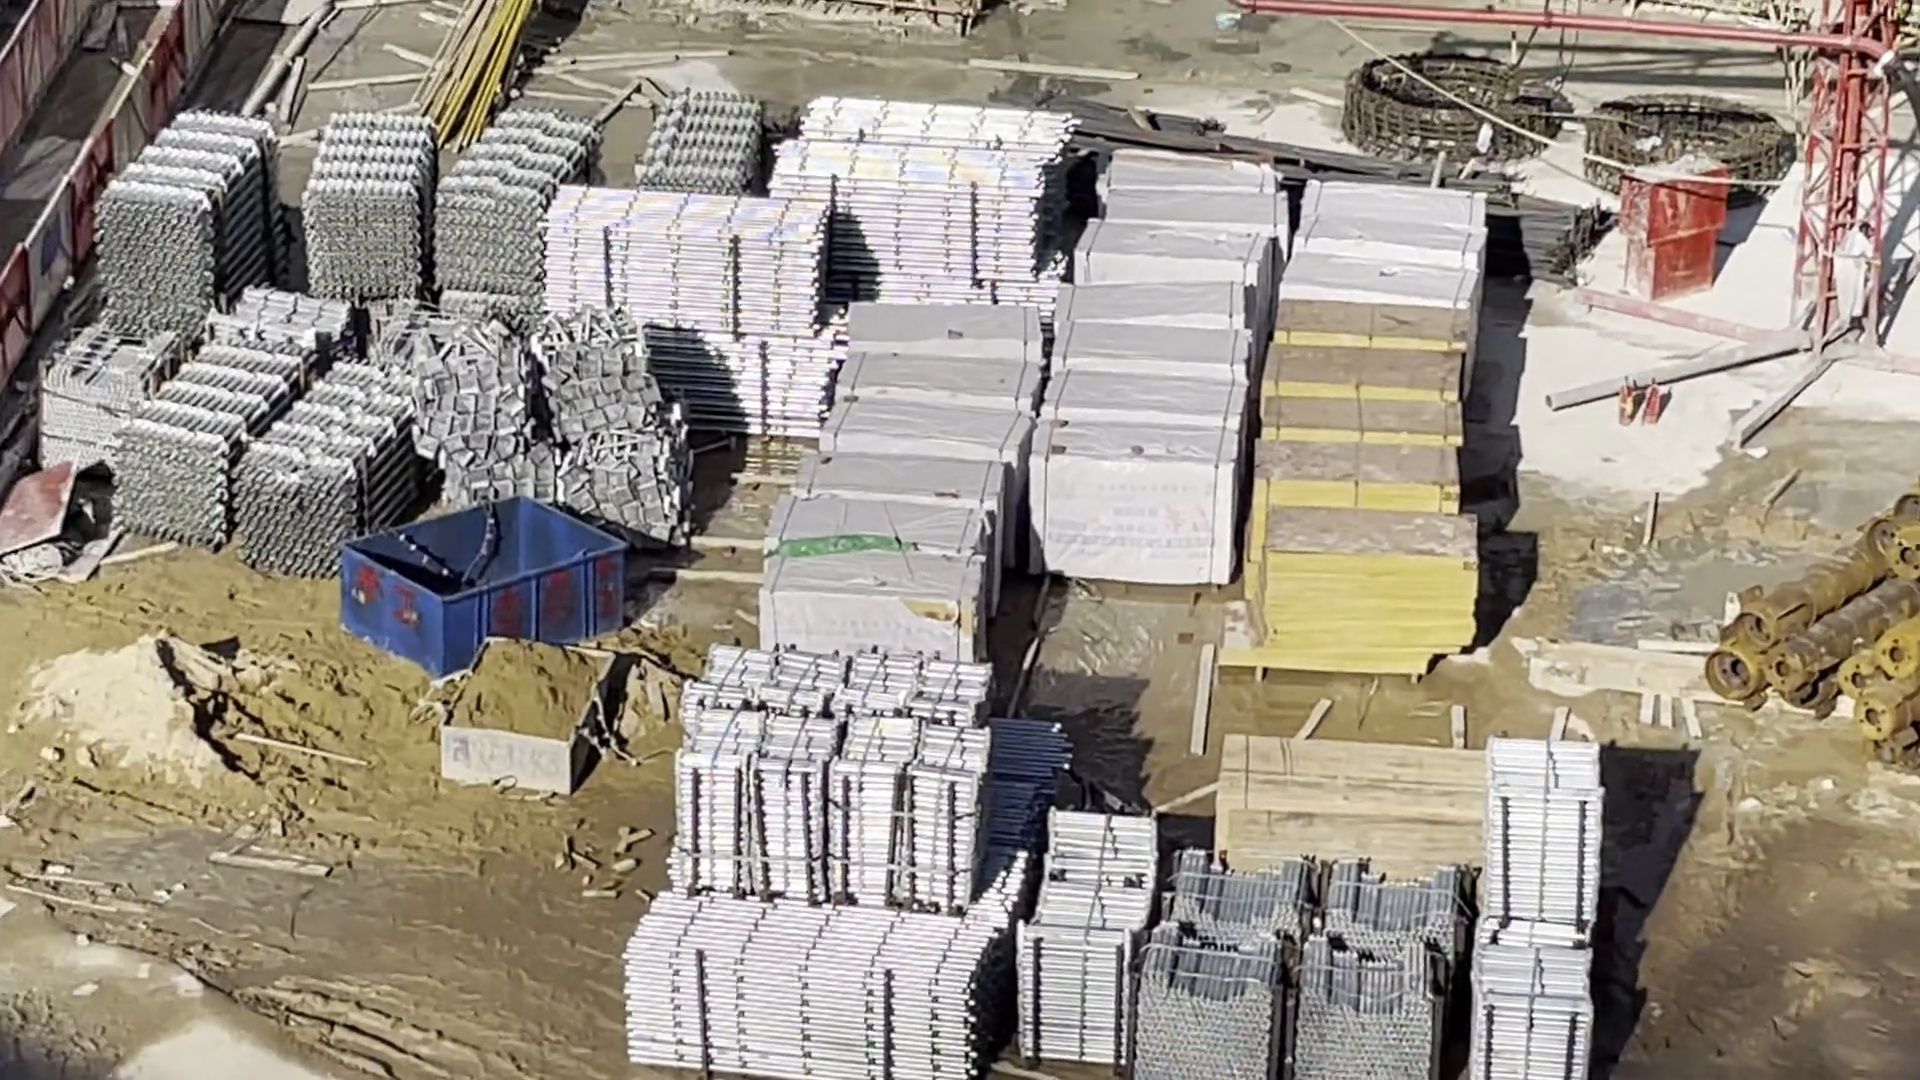board: (1251, 301, 1477, 674), (1204, 738, 1481, 870)
fence: (5, 1, 194, 330)
hopper: (340, 495, 622, 676), (442, 640, 616, 796)
rebar: (1063, 107, 1606, 277)
scaffold: (678, 659, 981, 903), (1125, 860, 1447, 1080), (547, 193, 835, 430), (632, 899, 982, 1080), (132, 349, 413, 562), (309, 111, 593, 291), (779, 104, 1058, 273), (1474, 745, 1592, 1079), (104, 124, 280, 334), (1027, 819, 1158, 1065), (640, 100, 752, 193)
